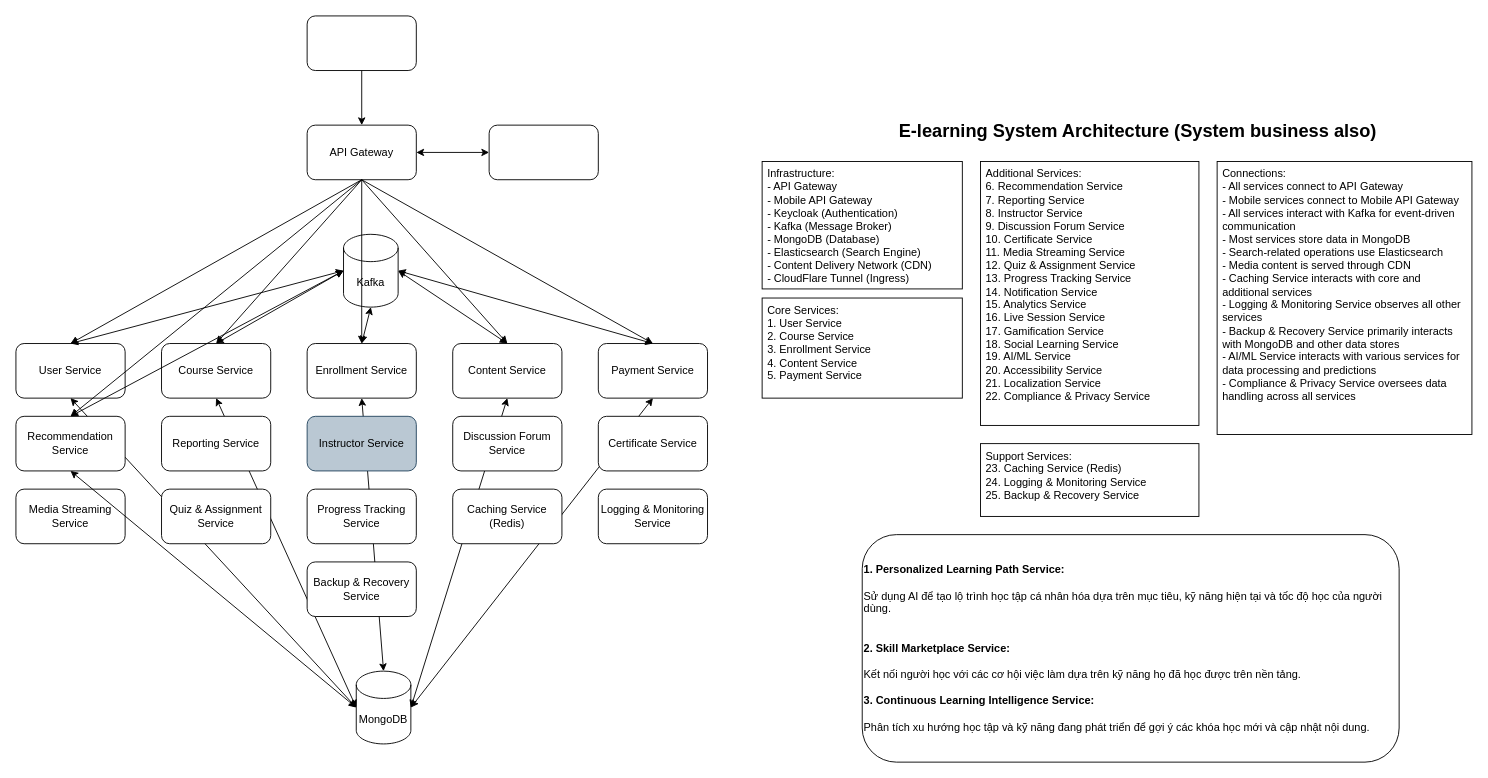
Image size: 1488x778. Some labels were removed from this diagram. Each missing label, with the box of its shape:
Client: (306, 15, 416, 71)
Keycloak: (488, 124, 598, 180)
